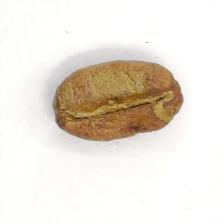NG: (53, 59, 176, 136)
